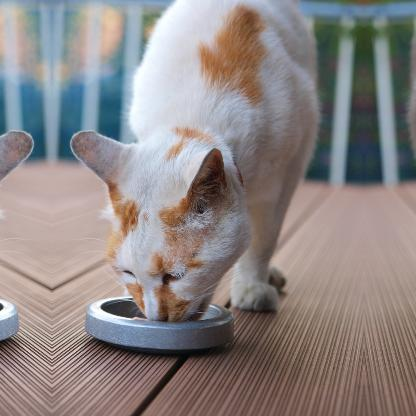Cat: (66, 0, 322, 318)
